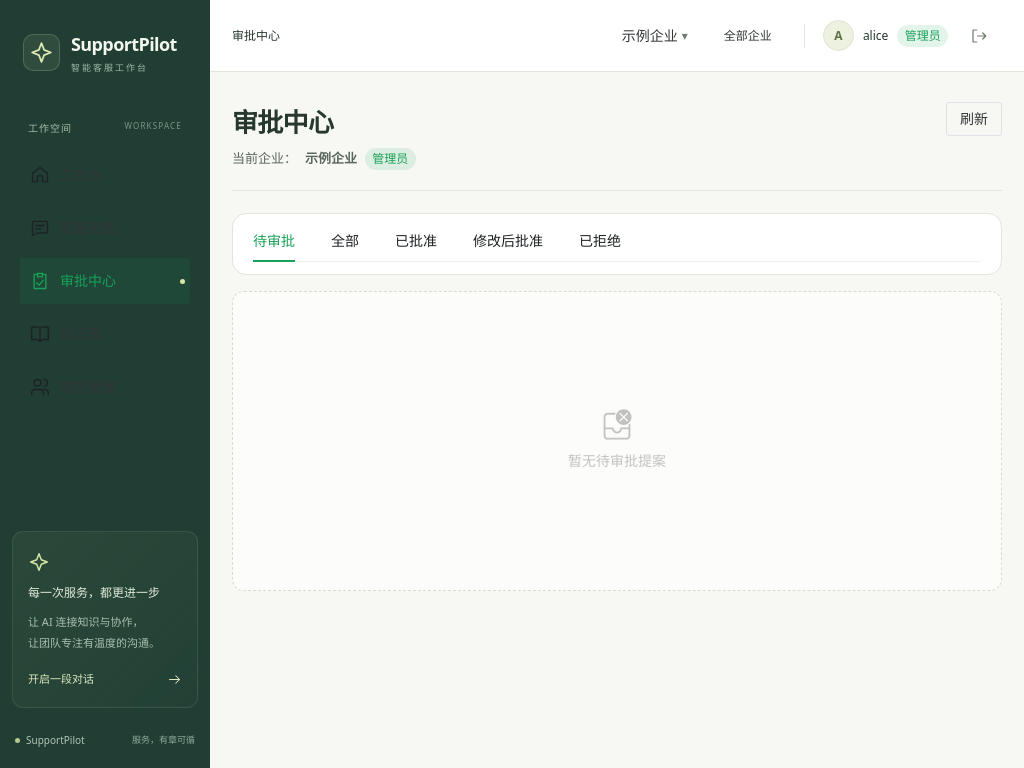
Test: ApprovalListView 列表渲染 › 筛选 Tab 切换：全部不传 status，其它状态原样传给后端
What coordinates should you click on to do the following:
click the element with class "n-tabs-tab" showing "全部"
I would click on:
 (345, 240)
Its box is [331,231,359,250].
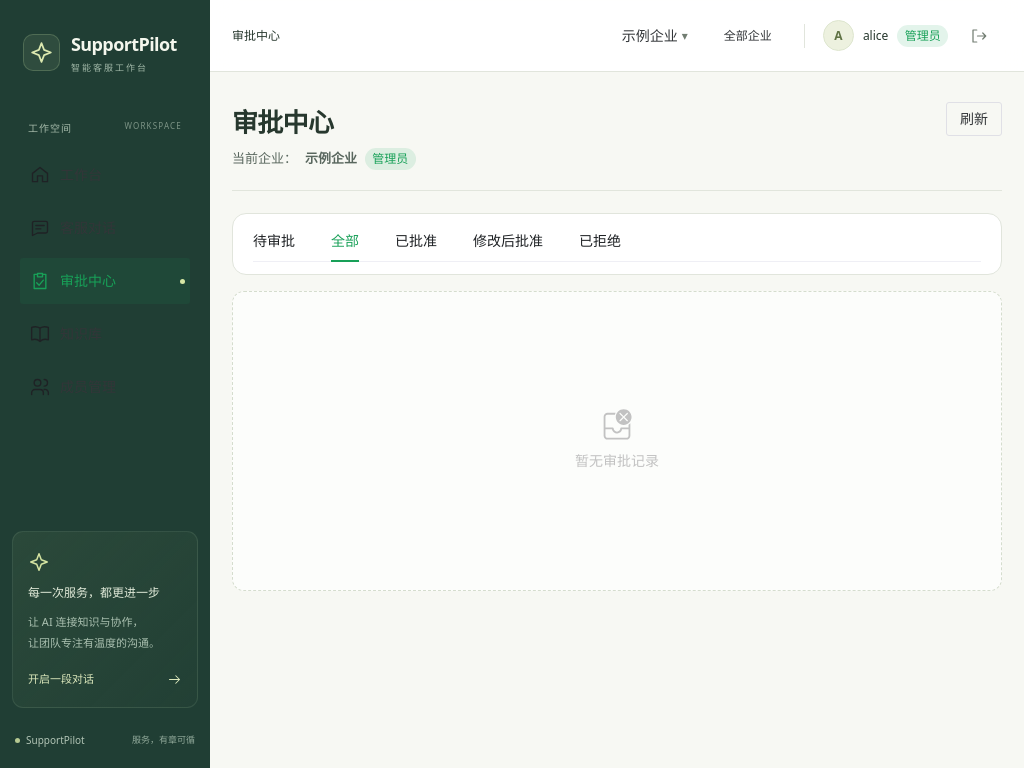
What coordinates should you click on to do the following:
click the element with class "n-tabs-tab" showing "已拒绝"
I would click on:
 (600, 240)
Its box is [579,231,621,250].
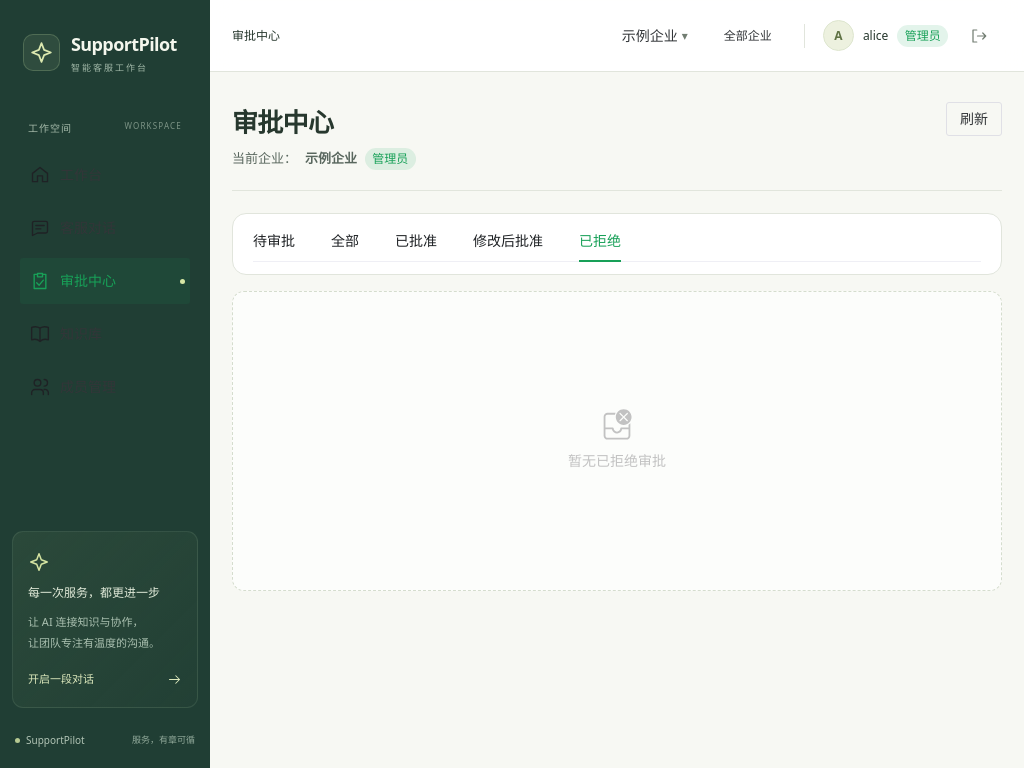
Now the text "暂无已拒绝审批" is shown, box [568,450,666,473]
